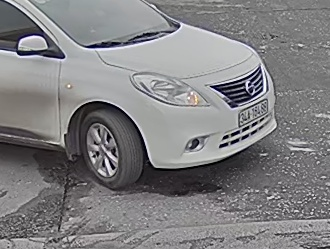vehicle plate: (236, 98, 272, 130)
